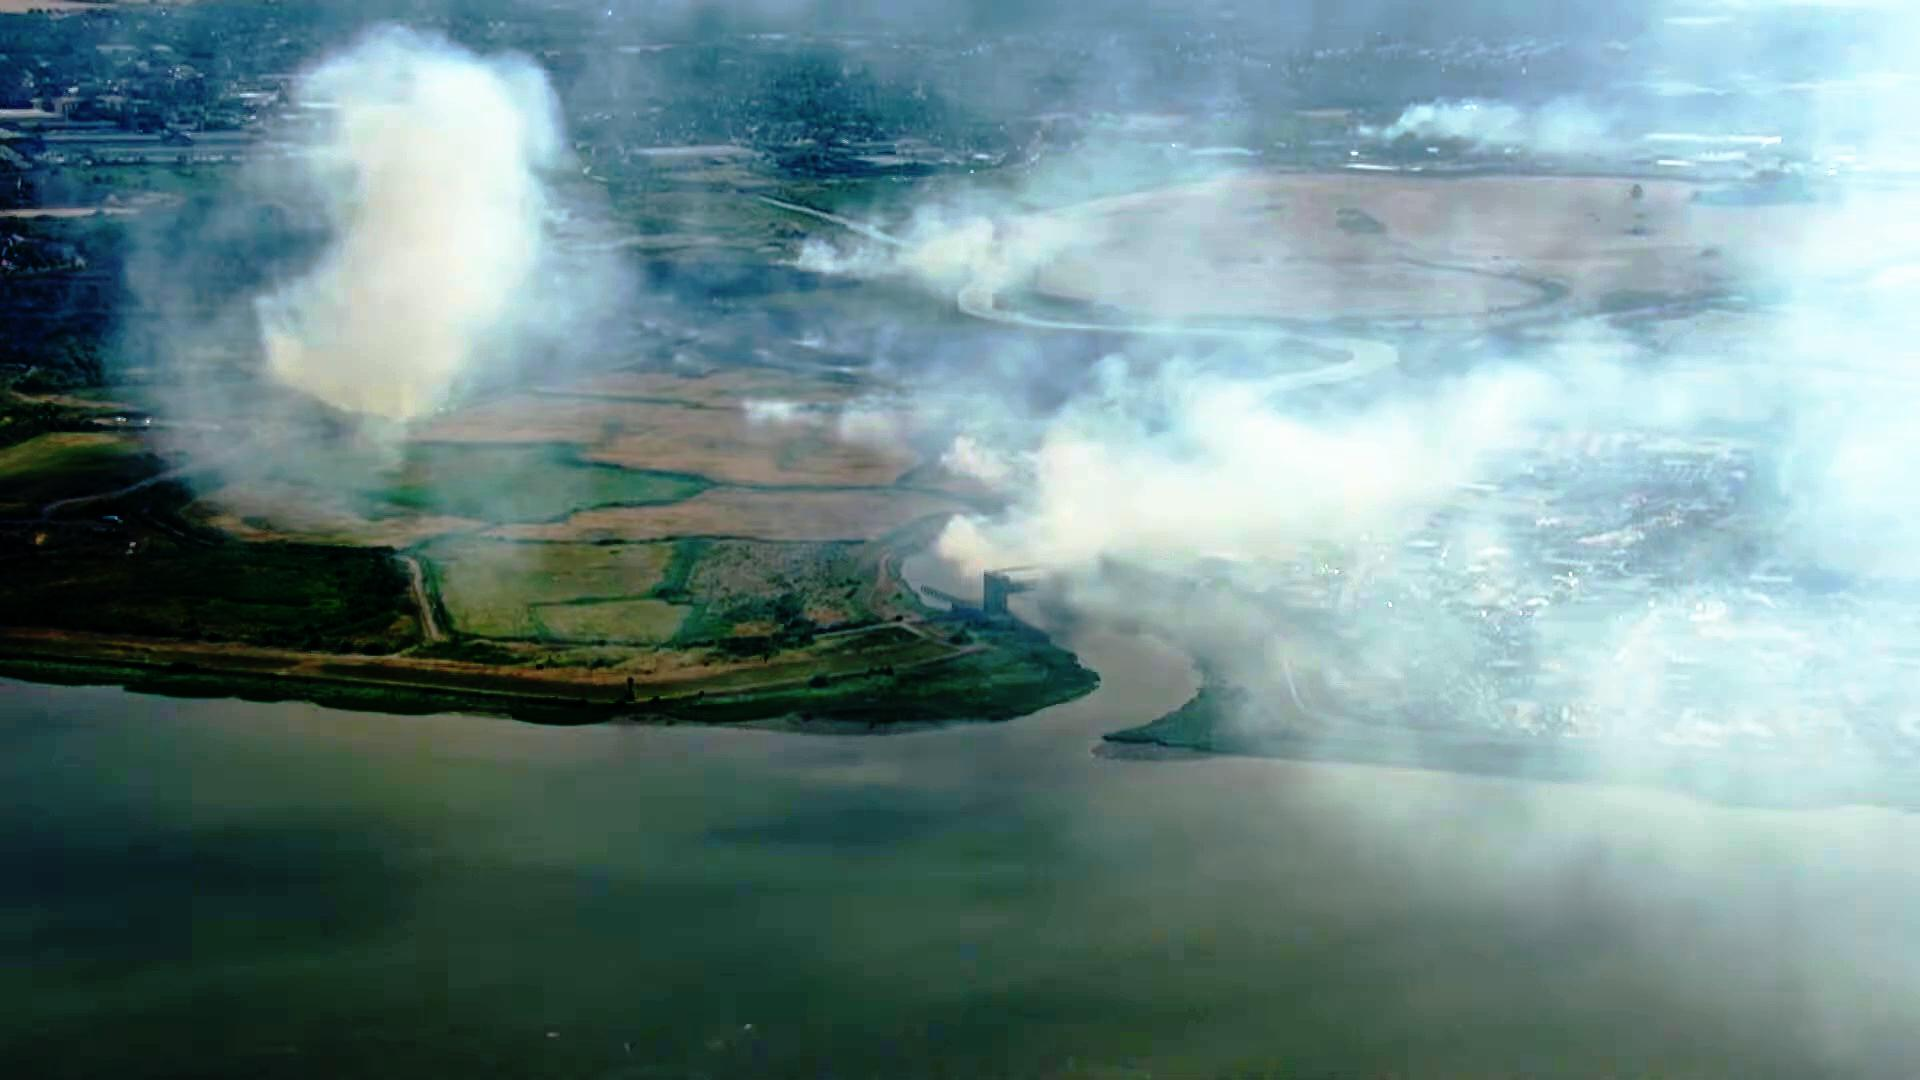smoke: (253, 13, 597, 436)
